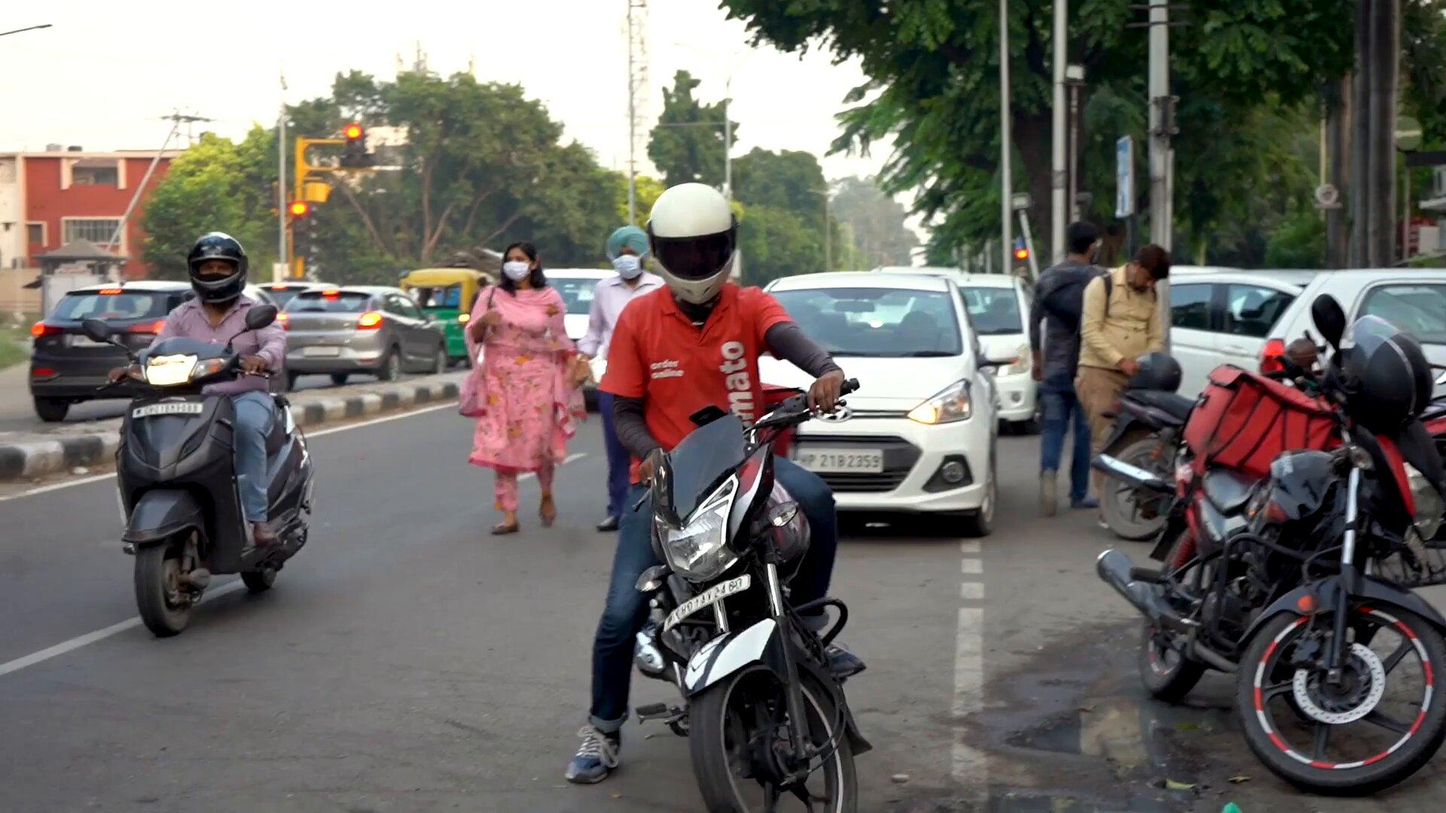driver: (562, 181, 874, 813), (82, 232, 314, 640)
helmet: (647, 180, 740, 305), (187, 232, 249, 307)
no-helmet: (606, 224, 649, 280), (1128, 243, 1169, 294), (1065, 220, 1103, 263), (500, 241, 538, 283)
